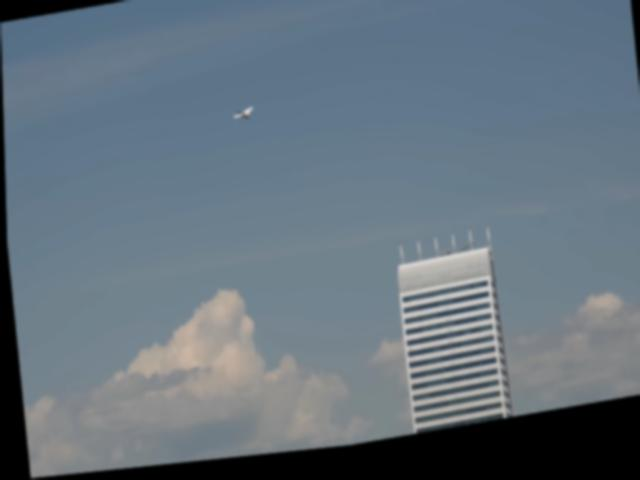plane: (233, 111, 252, 126)
